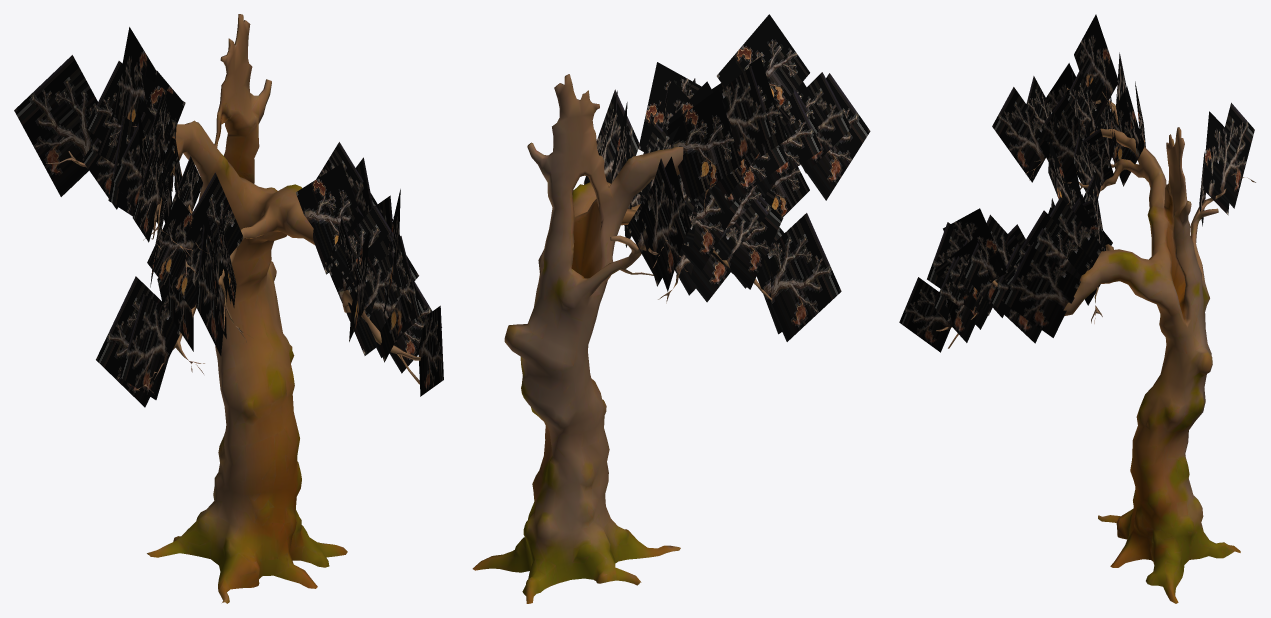
Rendered from dead_3.glb.
3 views of the same model, side by side, from view 1: azimuth 30°, elevation 25°; view 2: azimuth 150°, elevation 25°; view 3: azimuth 270°, elevation 25° (orthographic). The views are drawn at different scales.
Visible parts, largest first — view 1: Fable_dead_3; view 2: Fable_dead_3; view 3: Fable_dead_3.
Boxes of the visible parts, x1,y1,x2,y2 form: Fable_dead_3: [14, 14, 443, 603]; Fable_dead_3: [472, 14, 870, 603]; Fable_dead_3: [899, 14, 1255, 603].
Size of the model in its own units: 5.76 by 10.62 by 7.06.
2 materials, 2 textured.
